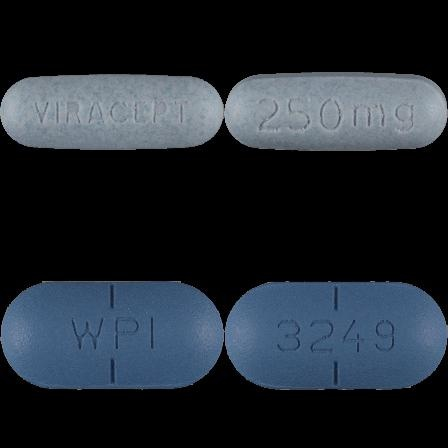52959-289: (0, 0, 224, 224)
